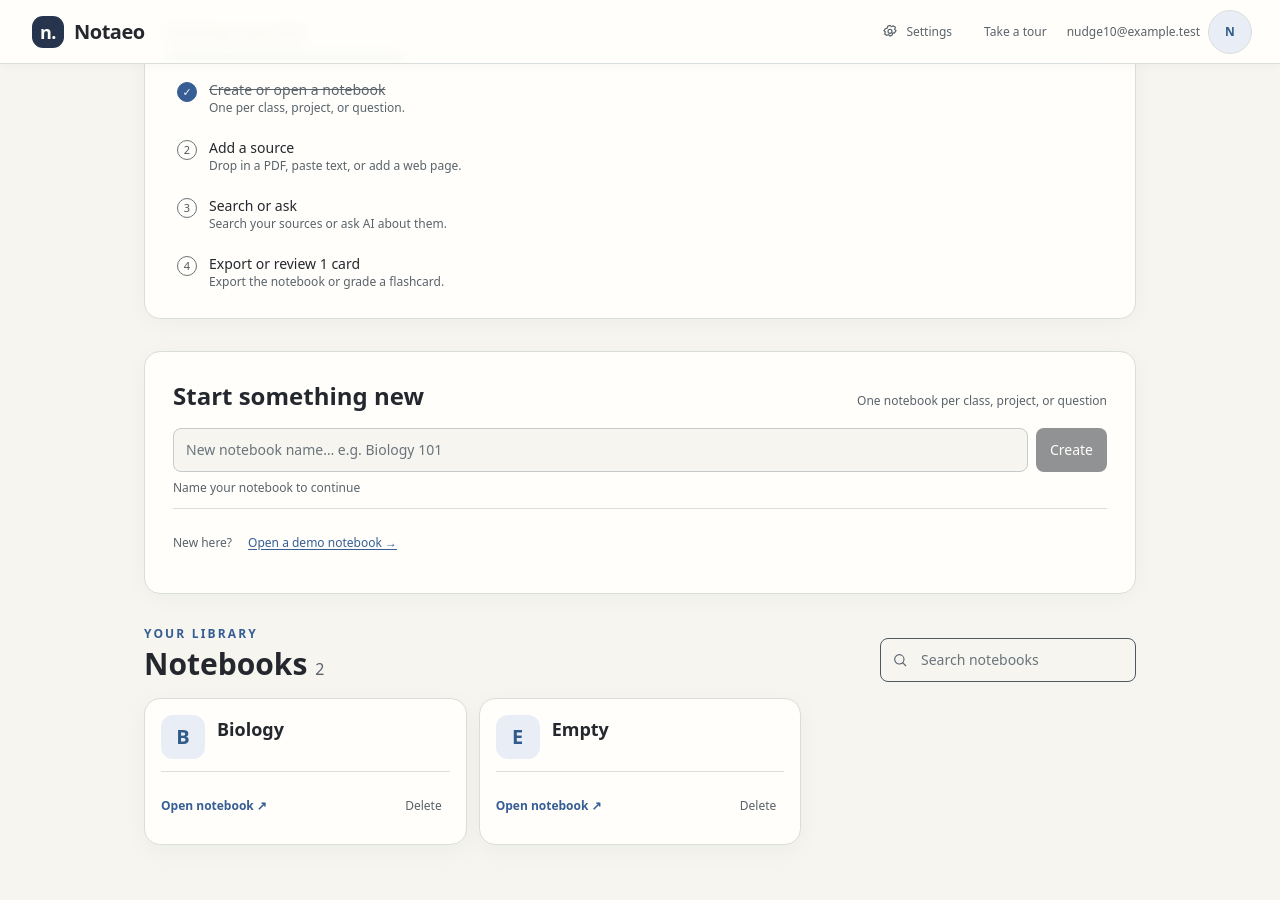
no chime nudge in a zero-source notebook after exporting elsewhere
The image size is (1280, 900).
(page scrolled)
Click the button with aria-label "Open Biology" at (183, 737), box top-left (161, 715), bottom-right (450, 759)
(page scrolled)
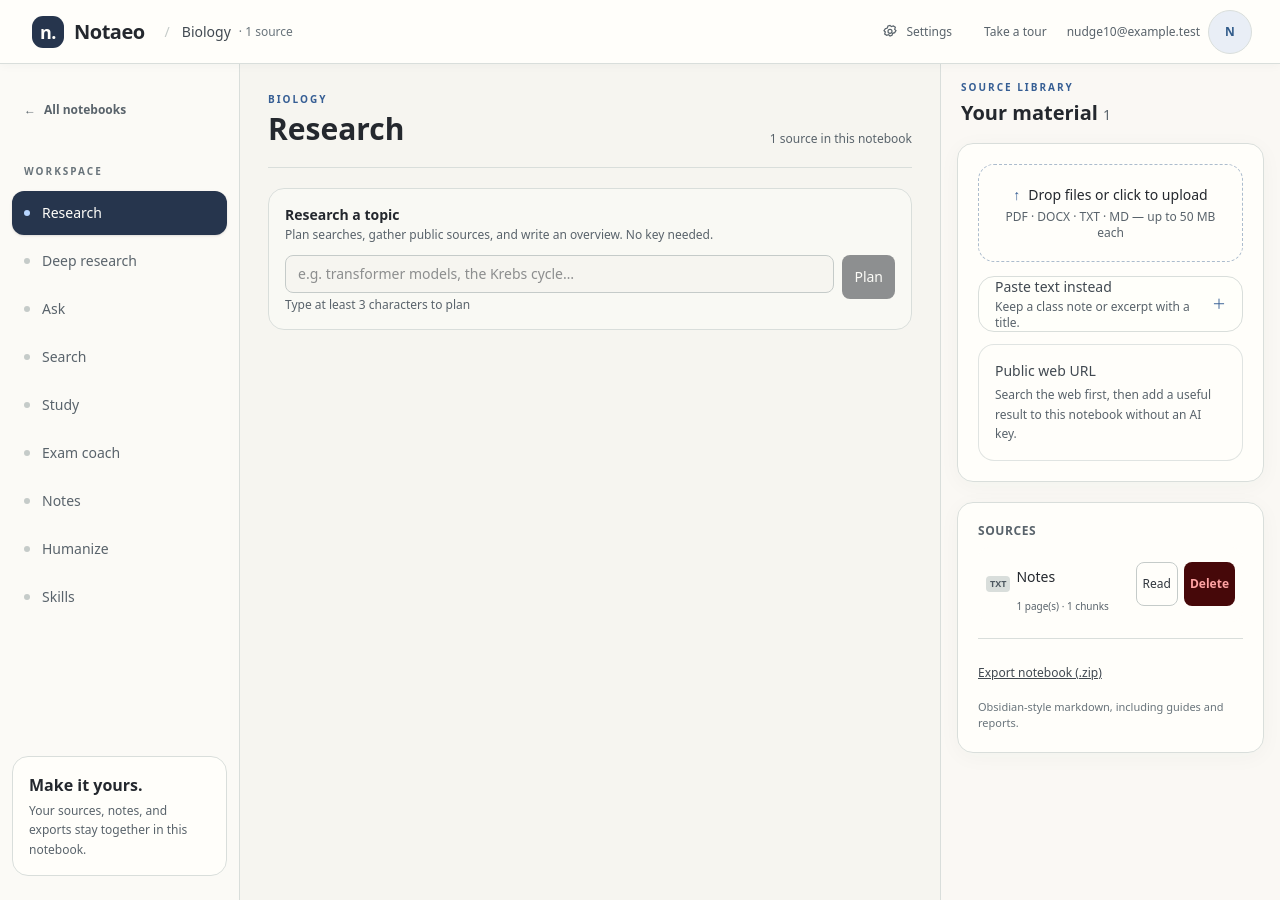
Click the button "Export notebook (.zip)" at (1040, 672), box top-left (978, 650), bottom-right (1102, 694)
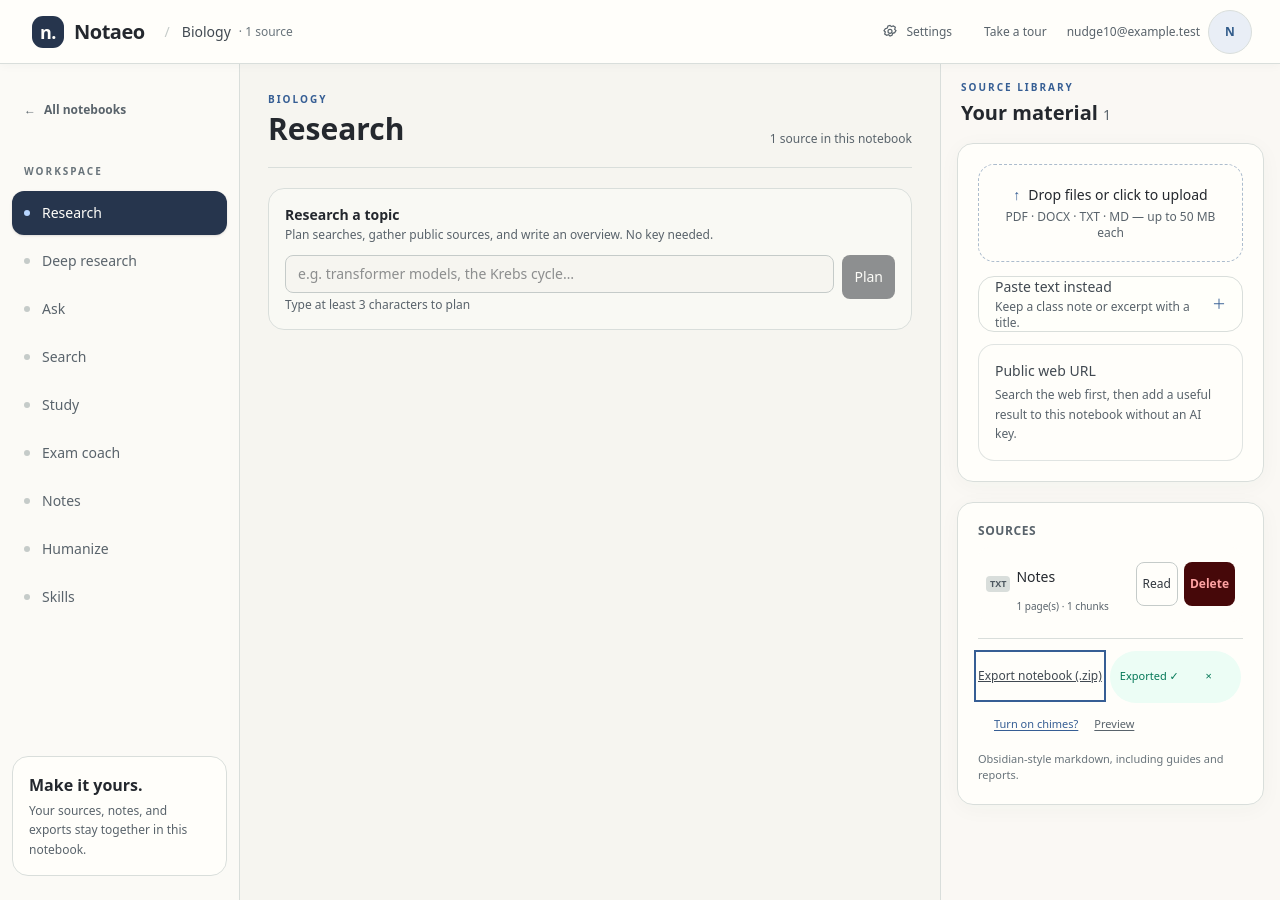
Now the button "Turn on chimes?" is shown, box top-left (986, 702), bottom-right (1086, 746)
Move to a notebook with zero sources: the nudge must not follow.
Click the button "← All notebooks" at (120, 110), box top-left (12, 88), bottom-right (227, 132)
(page scrolled)
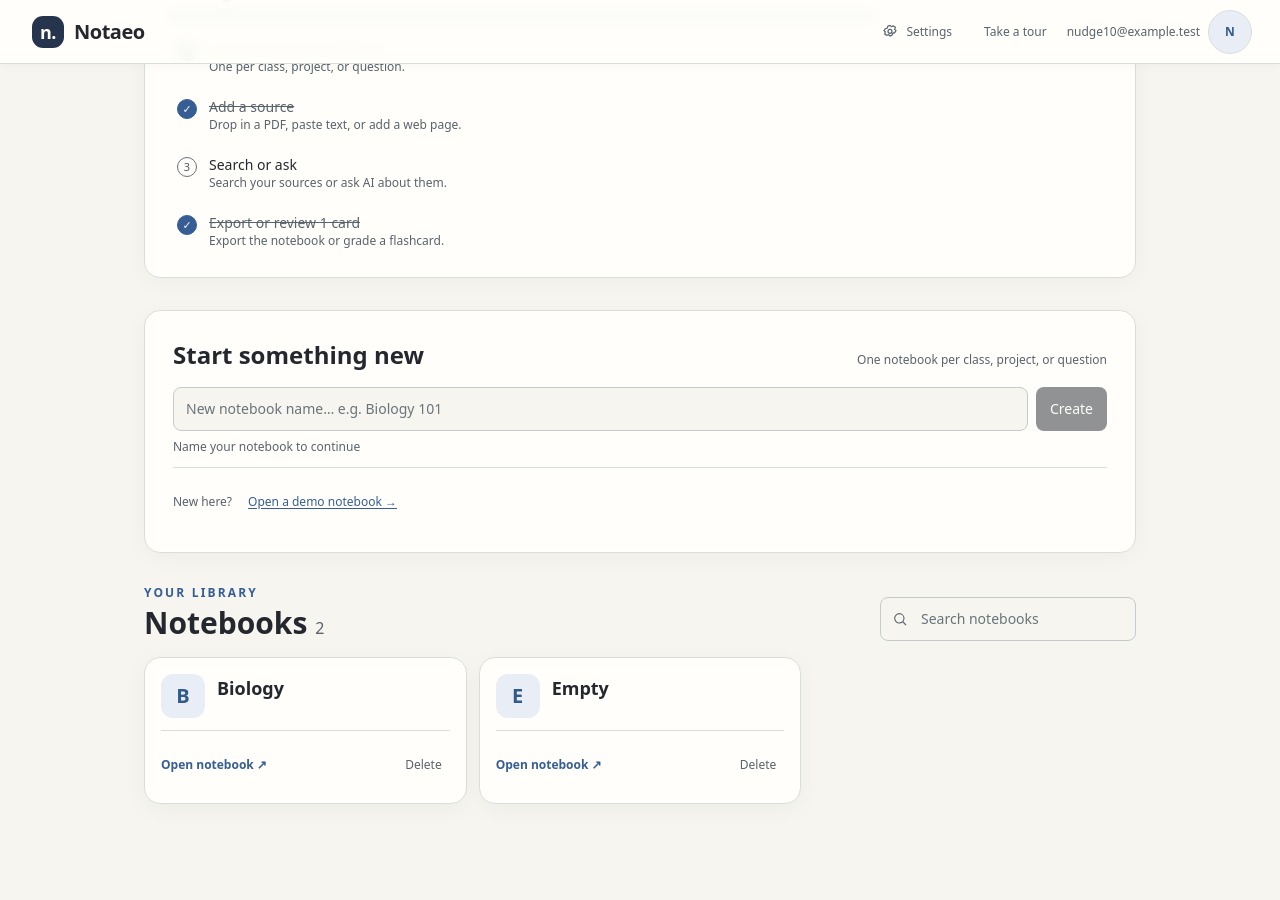
Click the button with aria-label "Open Empty" at (518, 696), box top-left (496, 674), bottom-right (784, 718)
(page scrolled)
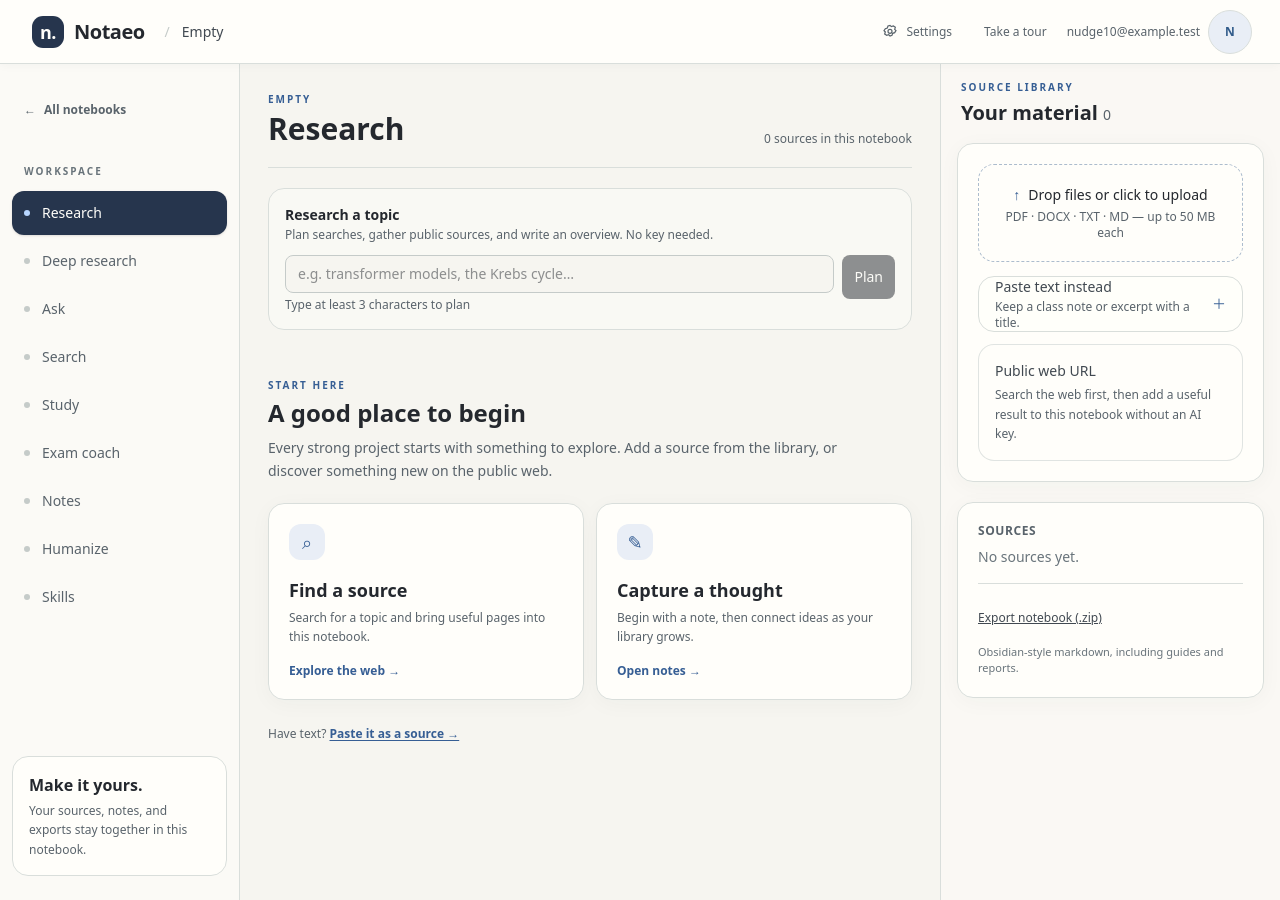
Expected: the button "Turn on chimes" is not shown
Now the button "Export notebook (.zip)" is shown, box top-left (978, 596), bottom-right (1102, 640)
